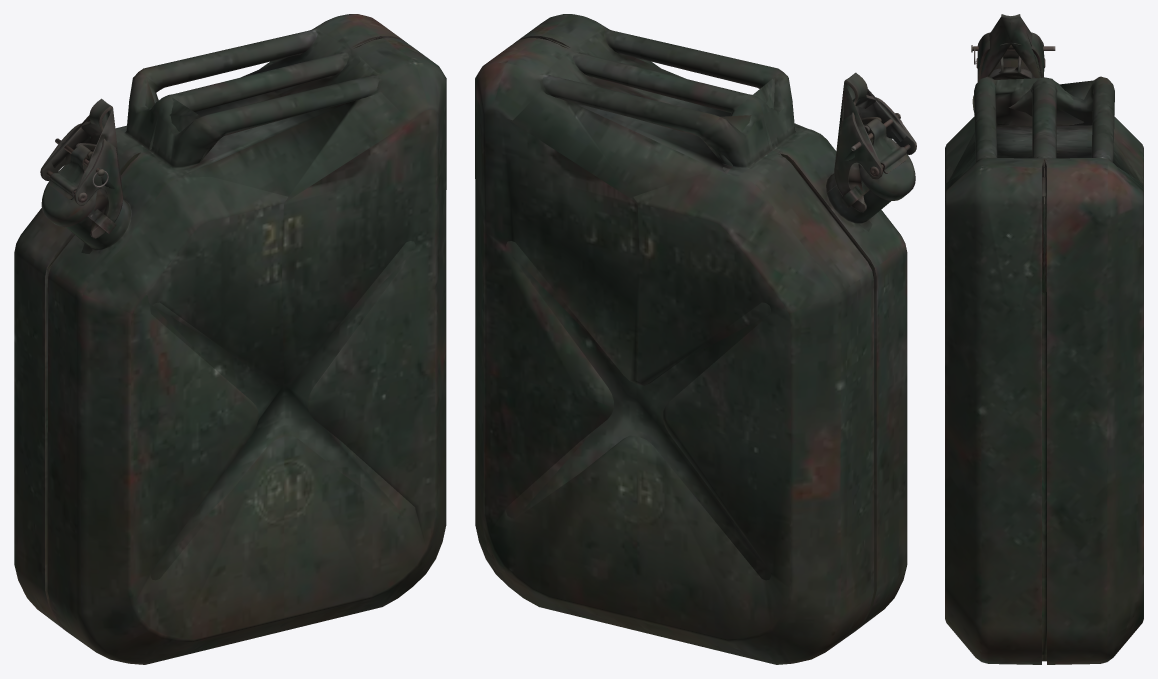
The model's file is metal_jerrycan_green.glb.
The picture shows the model from 3 angles, left to right: view 1: azimuth 30°, elevation 25°; view 2: azimuth 150°, elevation 25°; view 3: azimuth 270°, elevation 25°; orthographic projection. The views are drawn at different scales.
Parts seen in each view (by area): view 1: metal_jerrycan_green_pin, metal_jerrycan_green_pin_lo; view 2: metal_jerrycan_green_pin, metal_jerrycan_green_pin_lo; view 3: metal_jerrycan_green_pin, metal_jerrycan_green_pin_lo.
Boxes of the visible parts, x1,y1,x2,y2 form: metal_jerrycan_green_pin: [14, 14, 446, 664]; metal_jerrycan_green_pin_lo: [41, 28, 415, 631]; metal_jerrycan_green_pin: [475, 14, 916, 664]; metal_jerrycan_green_pin_lo: [506, 28, 915, 631]; metal_jerrycan_green_pin: [945, 14, 1143, 664]; metal_jerrycan_green_pin_lo: [945, 16, 1143, 661].
Size of the model in its own units: 0.3604 by 0.4999 by 0.1709.
1 material, 1 textured.
